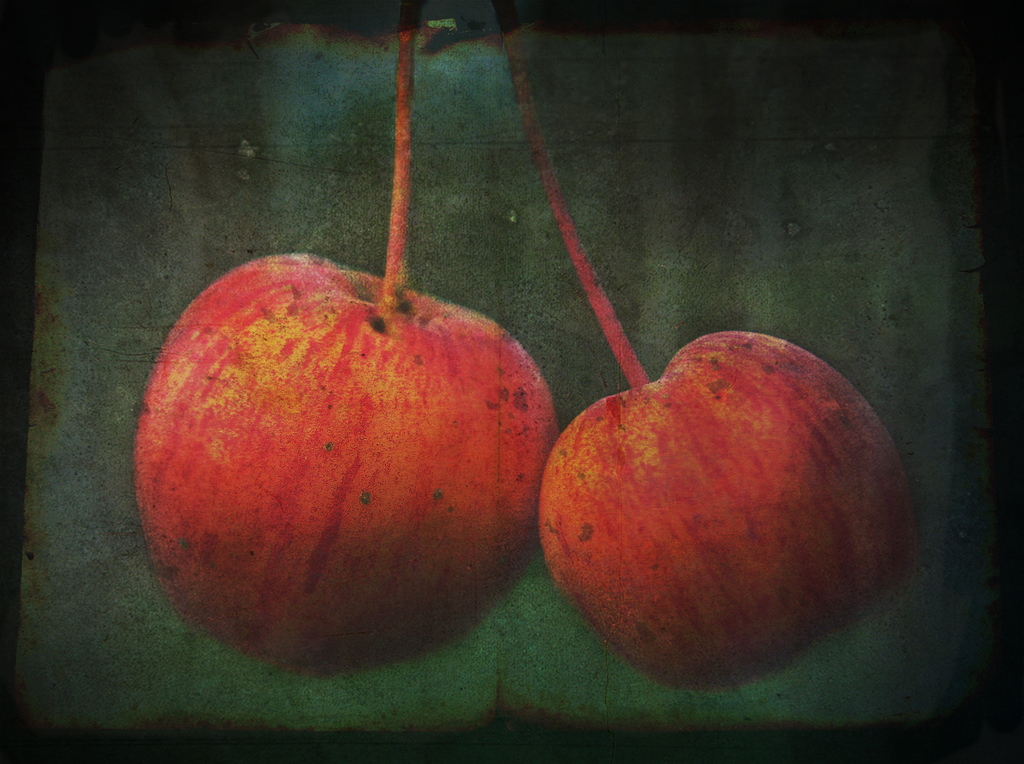Apple: (130, 244, 562, 681), (535, 317, 910, 704)
